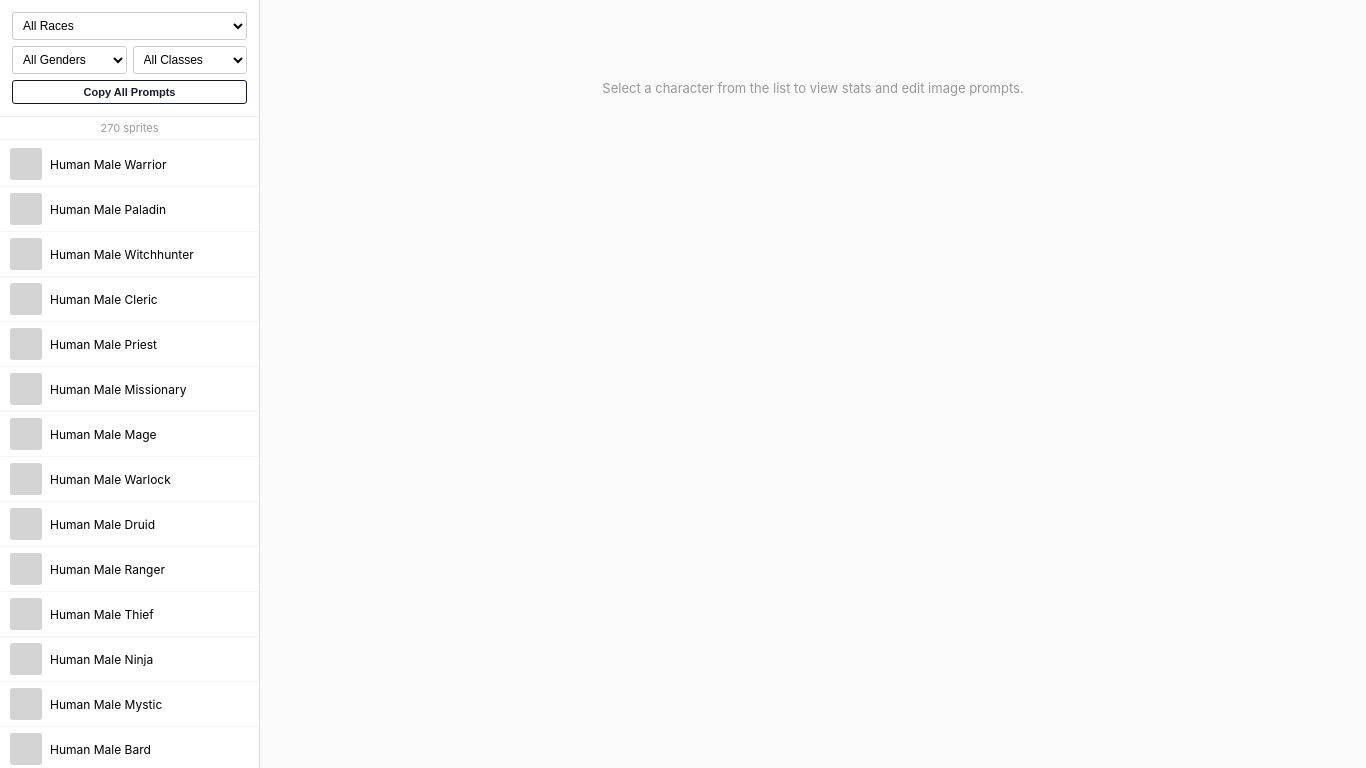
Test: PcSpriteEditor › combining all three filters shows single sprite
The width and height of the screenshot is (1366, 768).
Expected: the text "270 sprites" is shown, [0,117,259,140]
Select "Human" in the 1st dropdown showing "All Races": x=130, y=26 [12,12,247,40]
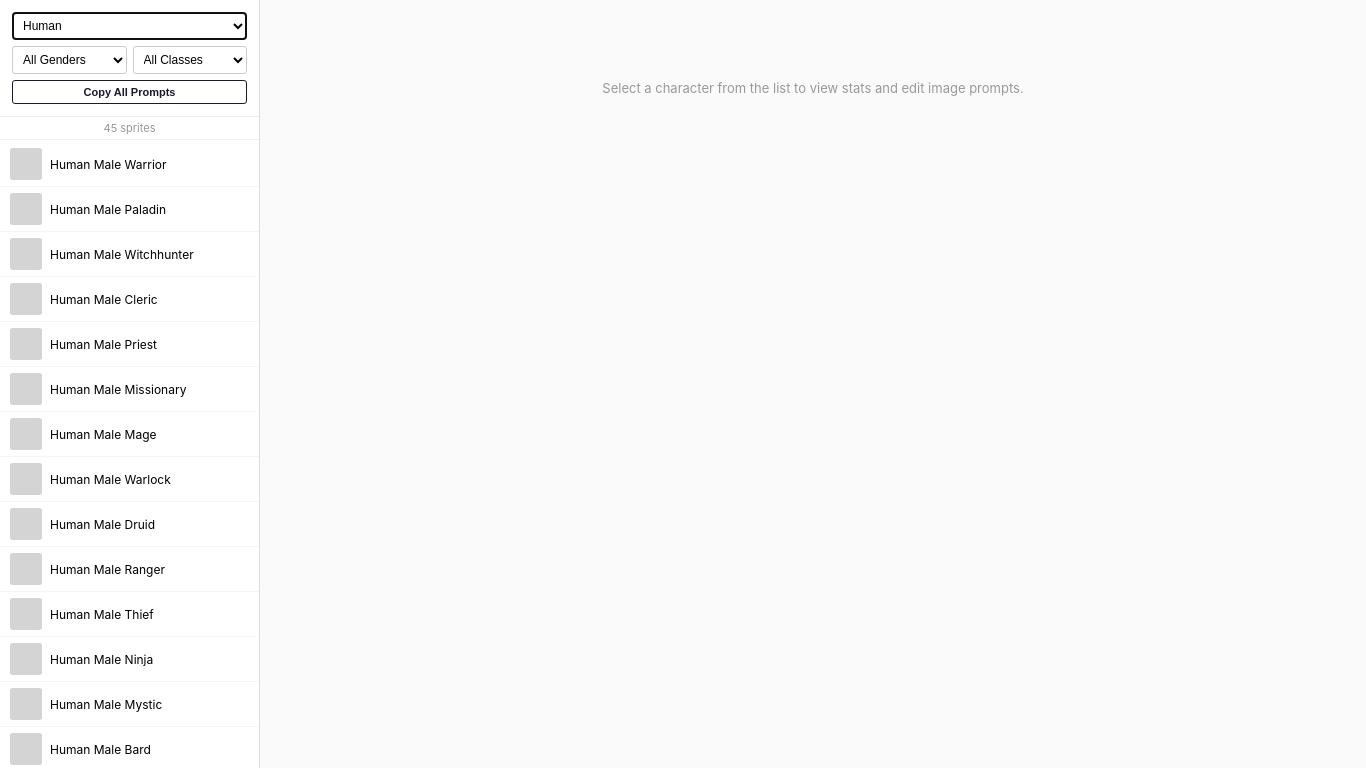
Expected: the text "45 sprites" is shown, [0,117,259,140]
Select "Male" in the 2nd dropdown showing "All Genders": x=69, y=60 [12,46,126,74]
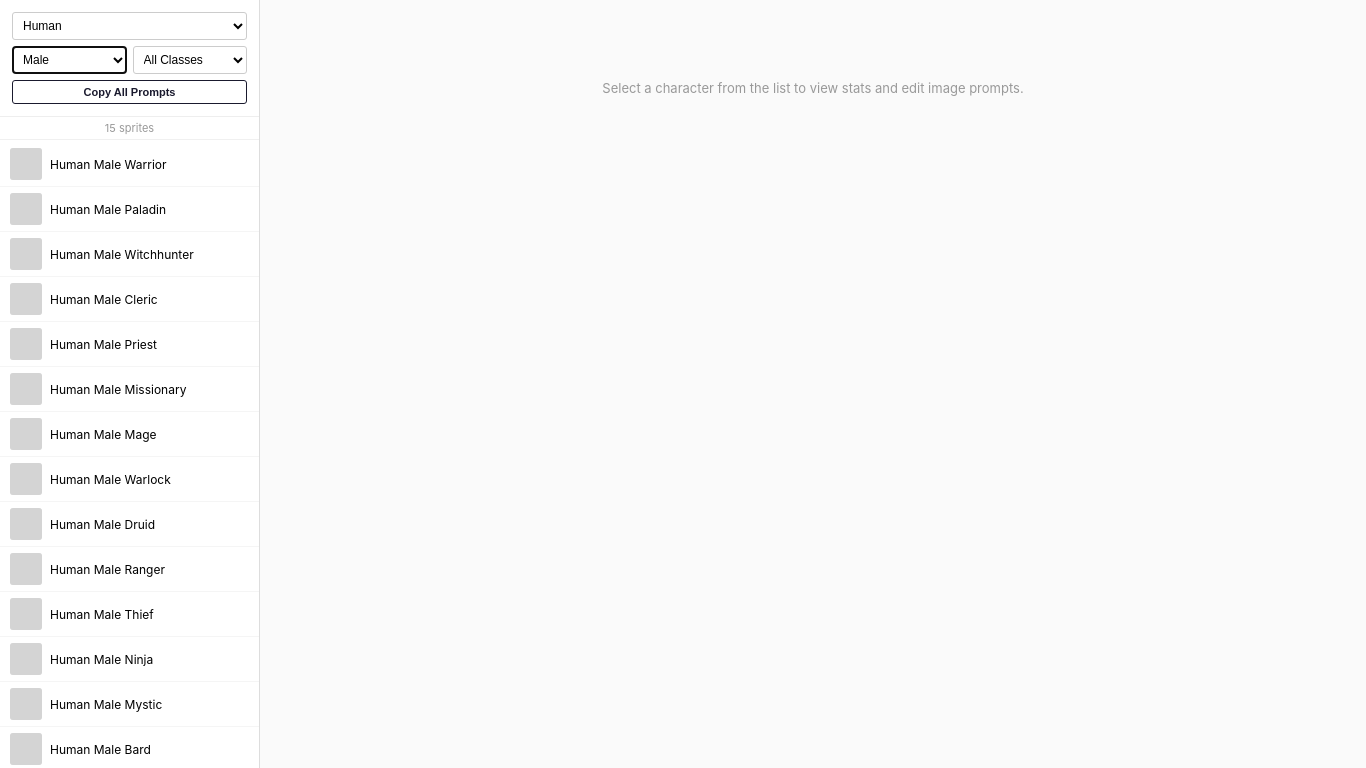
Expected: the text "15 sprites" is shown, [0,117,259,140]
Select "Warrior" in the 3rd dropdown showing "All Classes": x=190, y=60 [132,46,247,74]
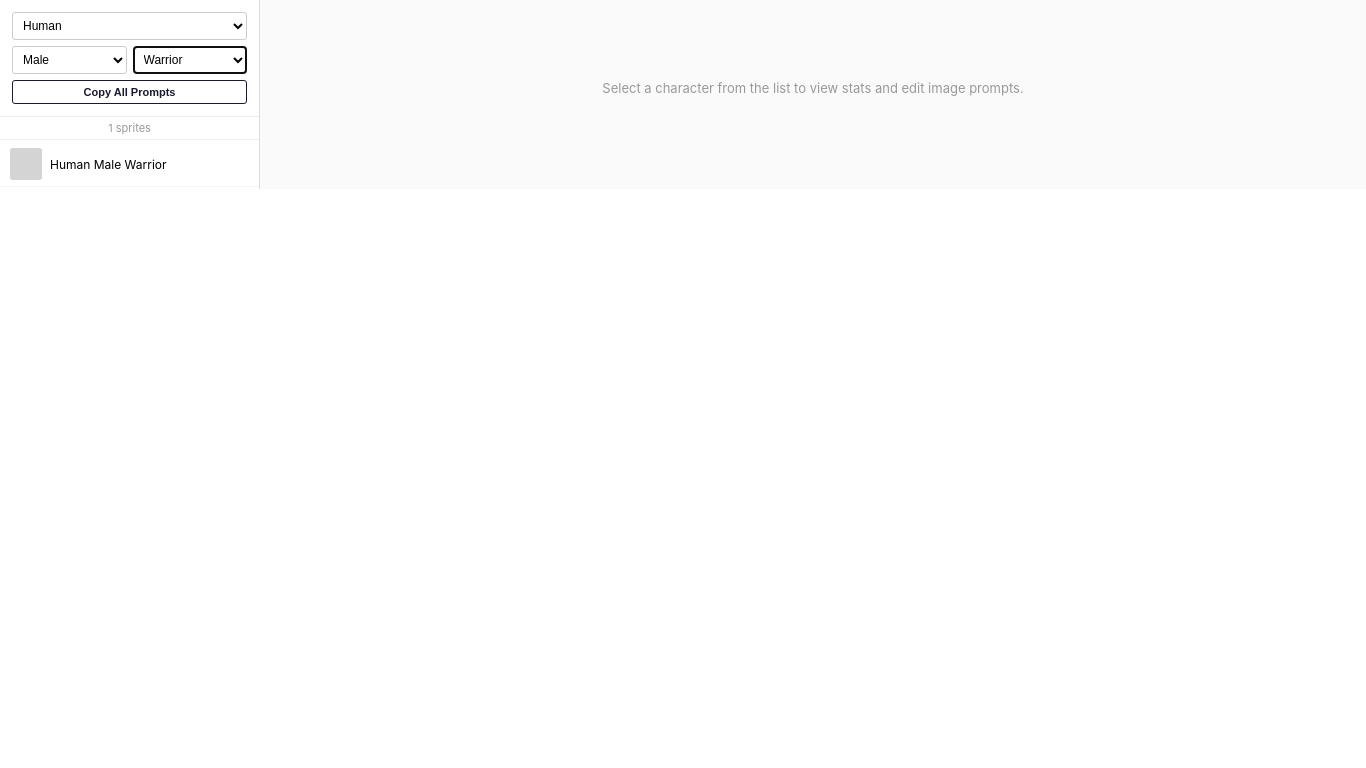
Expected: the text "1 sprites" is shown, [0,117,259,140]
